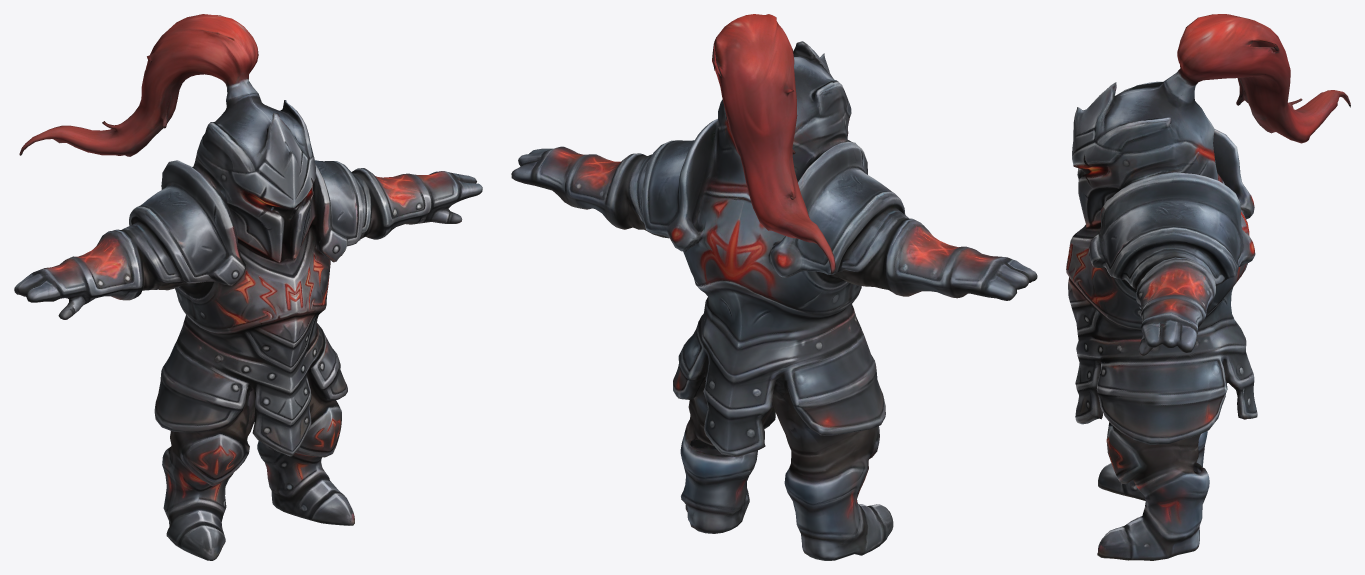
Rendered from T_Pose.fbx.
3 renders of one model, left to right at view 1: azimuth 30°, elevation 25°; view 2: azimuth 150°, elevation 25°; view 3: azimuth 270°, elevation 25°, orthographic. The views are drawn at different scales.
Visible parts, largest first — view 1: Mesh_0; view 2: Mesh_0; view 3: Mesh_0.
Boxes of the visible parts, bbox=[...] form: Mesh_0: bbox=[14, 14, 482, 560]; Mesh_0: bbox=[511, 14, 1037, 560]; Mesh_0: bbox=[1066, 14, 1350, 560].
Size of the model in its own units: 199 by 200 by 104.
Materials: 1 (1 with a texture image).
